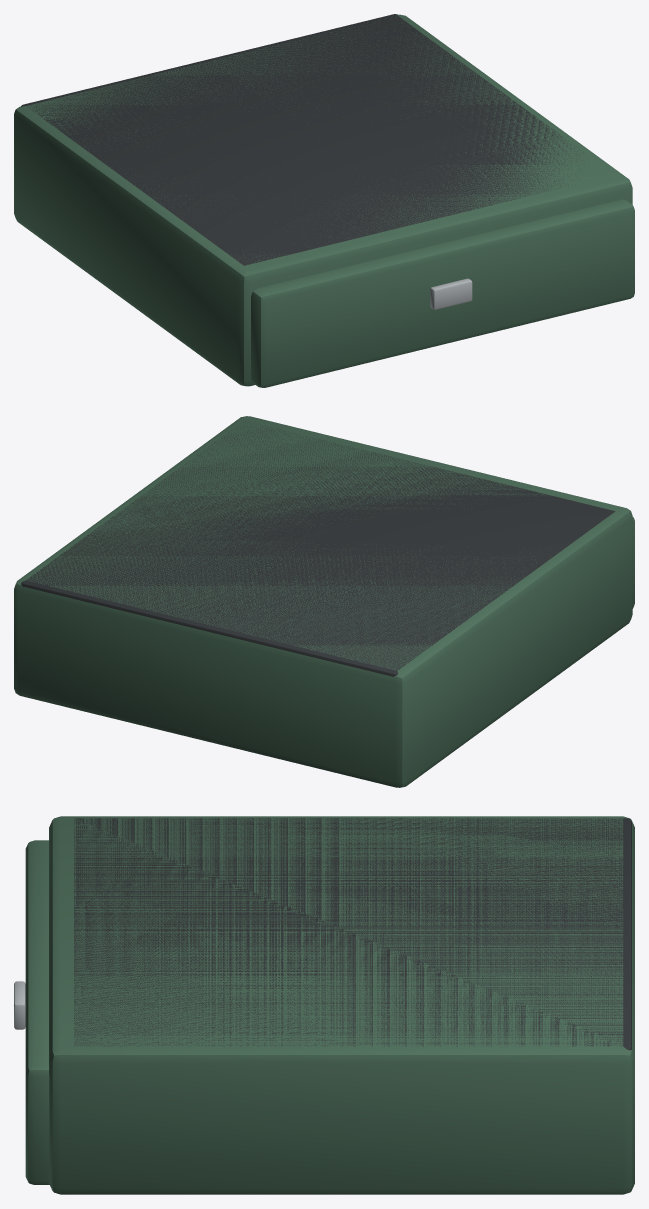
File: cash_drawer_public.glb
3 views of the same model, one above another, from view 1: azimuth 30°, elevation 25°; view 2: azimuth 150°, elevation 25°; view 3: azimuth 270°, elevation 25° (orthographic). The views are drawn at different scales.
Parts seen in each view (by area): view 1: CashDrawer_HousingTop, CashDrawer_Housing, CashDrawer_Front, CashDrawer_Latch; view 2: CashDrawer_Housing, CashDrawer_HousingTop; view 3: CashDrawer_Housing, CashDrawer_HousingTop, CashDrawer_Front, CashDrawer_Latch.
Boxes of the visible parts, x1,y1,x2,y2 form: CashDrawer_HousingTop: (21, 14, 583, 265); CashDrawer_Housing: (14, 14, 632, 386); CashDrawer_Front: (251, 199, 634, 387); CashDrawer_Latch: (430, 278, 472, 309); CashDrawer_Housing: (14, 416, 632, 787); CashDrawer_HousingTop: (21, 421, 615, 676); CashDrawer_Housing: (49, 816, 634, 1194); CashDrawer_HousingTop: (74, 818, 631, 1050); CashDrawer_Front: (25, 840, 49, 1184); CashDrawer_Latch: (14, 981, 25, 1029).
Size of what is drawn, in the model's own units: 0.39 by 0.11 by 0.424.
